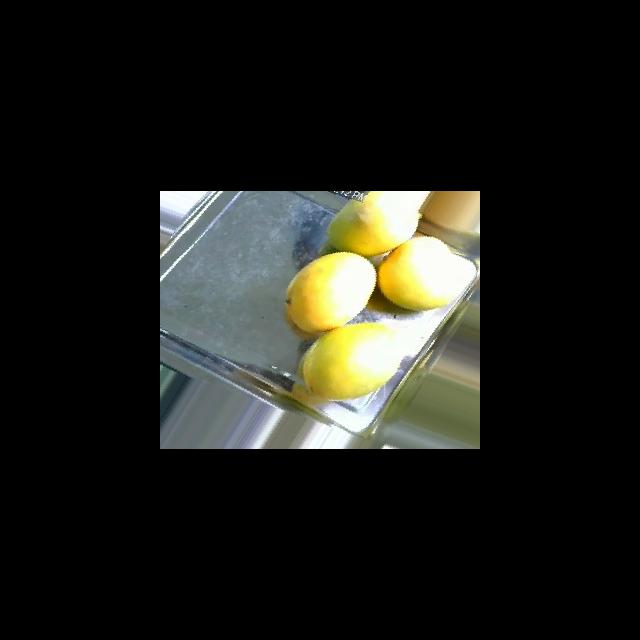mango: (300, 322, 403, 400), (284, 251, 377, 333), (377, 235, 477, 311)
